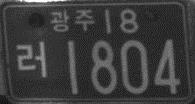0: (118, 39, 148, 95)
1: (66, 38, 80, 95), (102, 7, 113, 35)
4: (151, 39, 184, 94)
8: (90, 40, 119, 93), (119, 8, 138, 36)
광주_O: (50, 8, 95, 34)
러: (15, 38, 48, 80)
